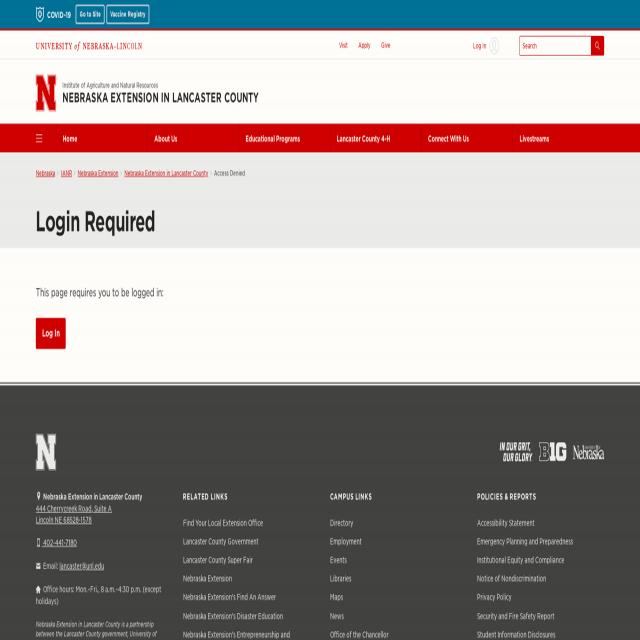button: (56, 124, 148, 152), (238, 124, 329, 152), (331, 124, 422, 152), (148, 124, 238, 152), (422, 124, 512, 152), (512, 124, 593, 153), (36, 318, 66, 349), (106, 5, 150, 24), (468, 36, 502, 58), (36, 74, 56, 110), (36, 434, 56, 470), (500, 442, 532, 462), (76, 5, 104, 24), (540, 442, 566, 462), (572, 444, 604, 460), (591, 35, 604, 56), (36, 7, 44, 22), (36, 132, 42, 144)
field: (520, 35, 591, 56)
